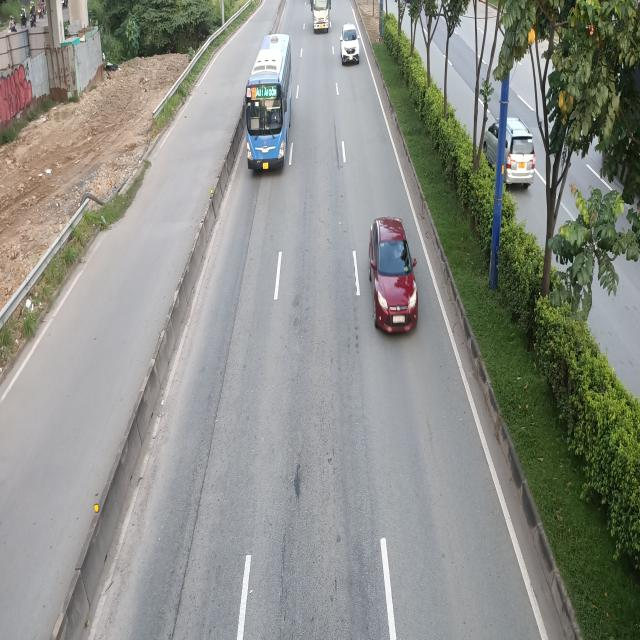car: (370, 218, 419, 334), (341, 25, 362, 67)
coach: (240, 32, 292, 168)
